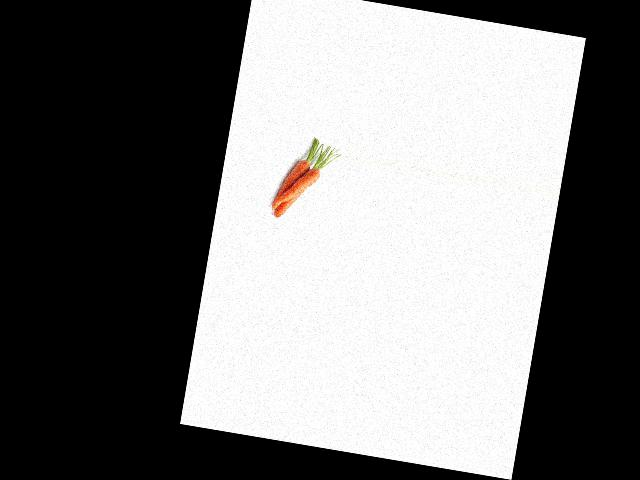carrot: (273, 181, 306, 221)
